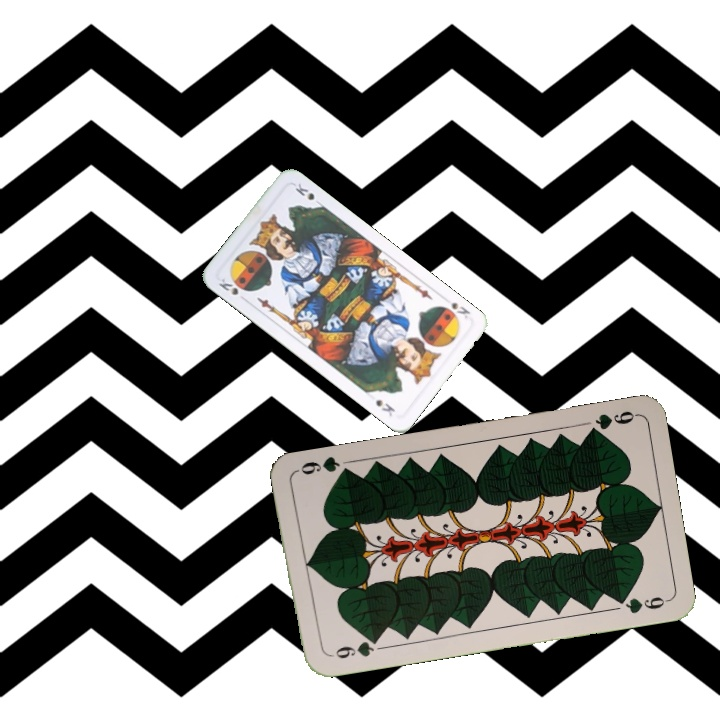G9: (582, 407, 639, 439), (324, 633, 382, 662)
SK: (214, 273, 241, 298), (447, 298, 473, 322)
